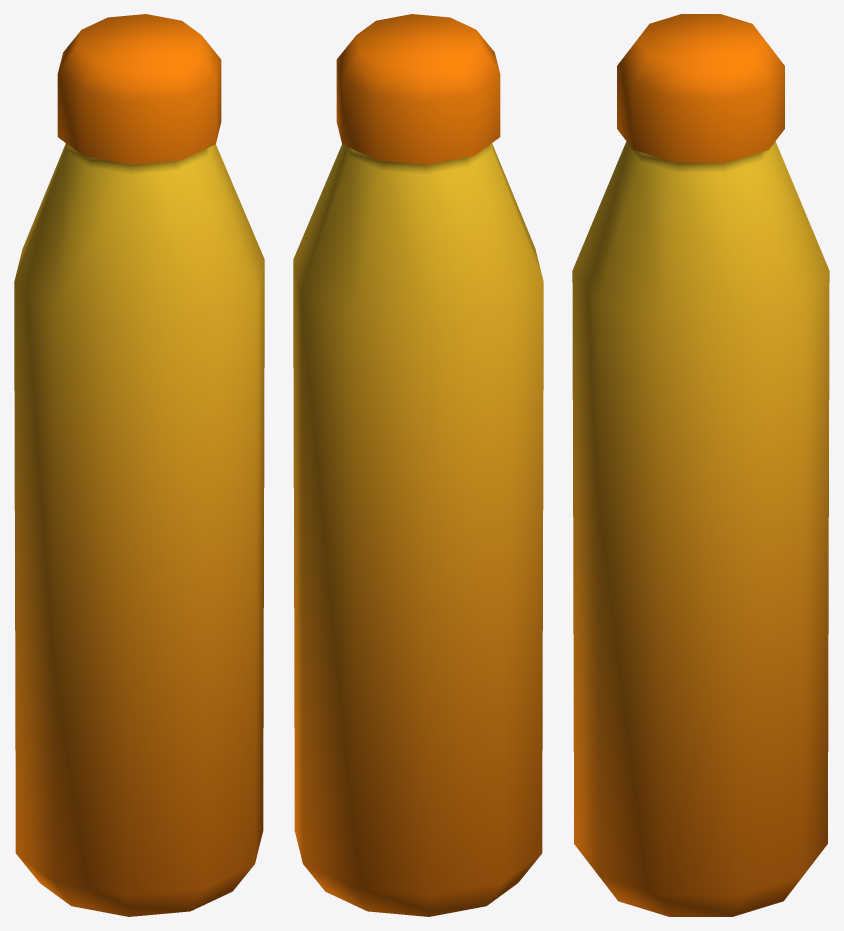
File: bottle2_orange.fbx
3 views of the same model, side by side, from view 1: azimuth 30°, elevation 25°; view 2: azimuth 150°, elevation 25°; view 3: azimuth 270°, elevation 25° (orthographic).
Visible parts, largest first — view 1: bottle2_orange; view 2: bottle2_orange; view 3: bottle2_orange.
Boxes of the visible parts, <box> form: bottle2_orange: <box>14,14,264,916</box>; bottle2_orange: <box>293,14,543,916</box>; bottle2_orange: <box>572,14,829,916</box>.
Size of the model in its own units: 49.11 by 185 by 51.63.
